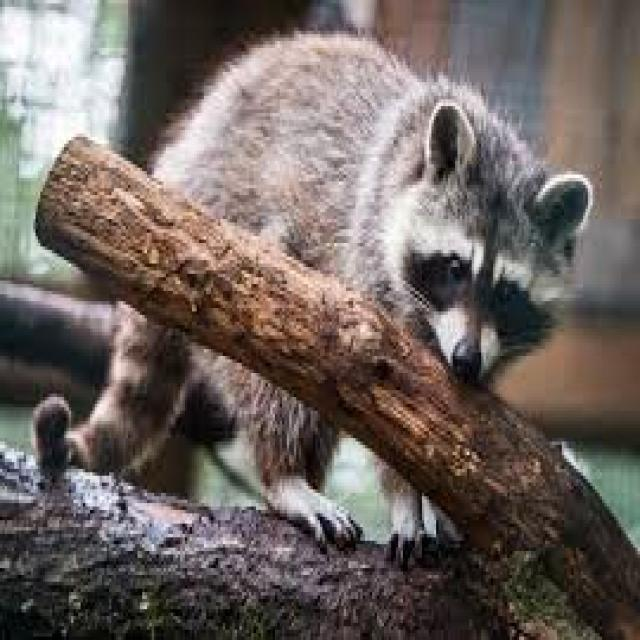raccoon: (154, 31, 593, 376)
